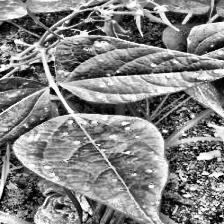Bean Rust: (14, 113, 170, 224), (56, 36, 224, 104), (0, 80, 52, 174), (190, 20, 224, 62)
